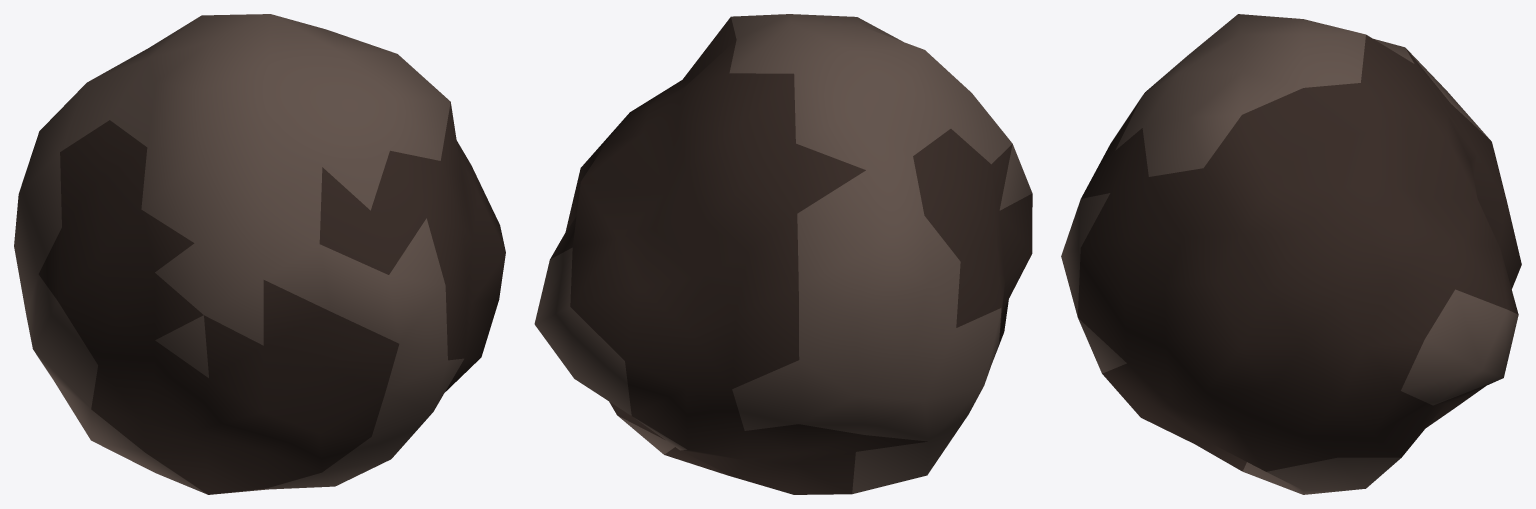
Rendered from meteorito_3.obj.
The picture shows the model from 3 angles, left to right: view 1: azimuth 30°, elevation 25°; view 2: azimuth 150°, elevation 25°; view 3: azimuth 270°, elevation 25°; orthographic projection. The views are drawn at different scales.
Visible parts, largest first — view 1: Meteorito_3; view 2: Meteorito_3; view 3: Meteorito_3.
Part boxes in pixels (box(x1,y1,x2,y2)): Meteorito_3: box(14, 14, 505, 494); Meteorito_3: box(534, 14, 1032, 494); Meteorito_3: box(1061, 14, 1521, 494).
Size of the model in its own units: 2.13 by 2.24 by 2.17.
